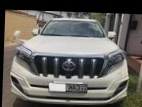car: (8, 16, 130, 107)
